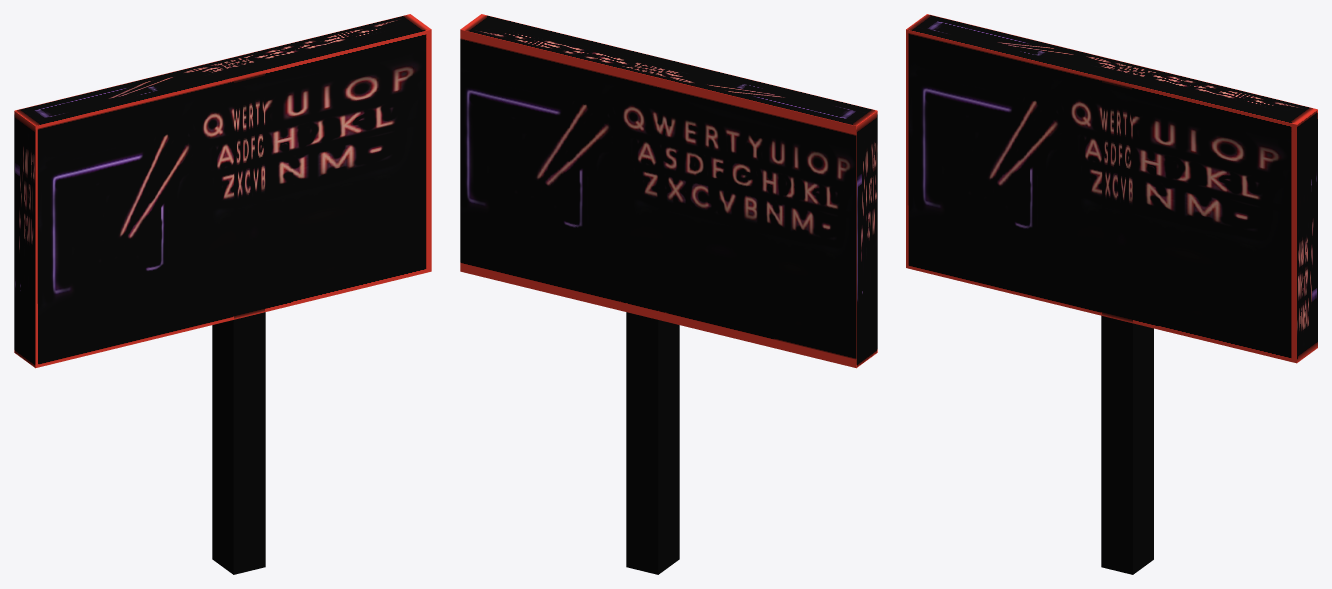
The model's file is bill.obj.
3 renders of one model, left to right at view 1: azimuth 30°, elevation 25°; view 2: azimuth 150°, elevation 25°; view 3: azimuth 330°, elevation 25°, orthographic.
Parts seen in each view (by area): view 1: Cube.002_Cube.008; view 2: Cube.002_Cube.008; view 3: Cube.002_Cube.008.
Boxes of the visible parts, <box> form: Cube.002_Cube.008: <box>14,14,431,574</box>; Cube.002_Cube.008: <box>460,14,877,574</box>; Cube.002_Cube.008: <box>906,14,1317,574</box>.
Size of the model in its own units: 6.71 by 8.04 by 0.626.
